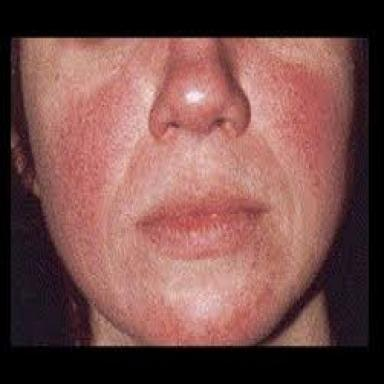burn: (33, 36, 355, 345)
